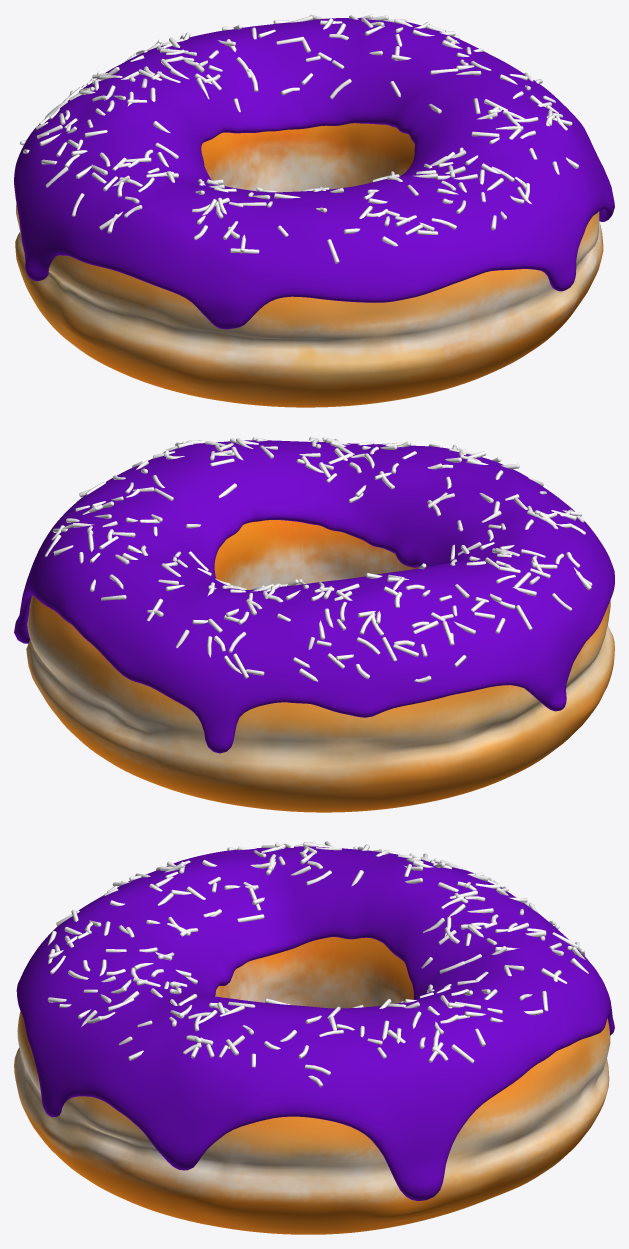
Rendered from donut.glb.
3 views of the same model, one above another, from view 1: azimuth 30°, elevation 25°; view 2: azimuth 150°, elevation 25°; view 3: azimuth 270°, elevation 25° (orthographic).
Parts seen in each view (by area): view 1: Icing.002, Donut.002; view 2: Icing.002, Donut.002; view 3: Icing.002, Donut.002.
Part boxes in pixels (bbox=[...]): Icing.002: bbox=[14, 18, 614, 329]; Donut.002: bbox=[15, 123, 603, 407]; Icing.002: bbox=[14, 440, 614, 753]; Donut.002: bbox=[26, 520, 614, 812]; Icing.002: bbox=[16, 846, 614, 1201]; Donut.002: bbox=[14, 937, 610, 1234].
Bounding box in the file's own units: 0.131 × 0.0513 × 0.1305.
3 materials, 1 textured.
